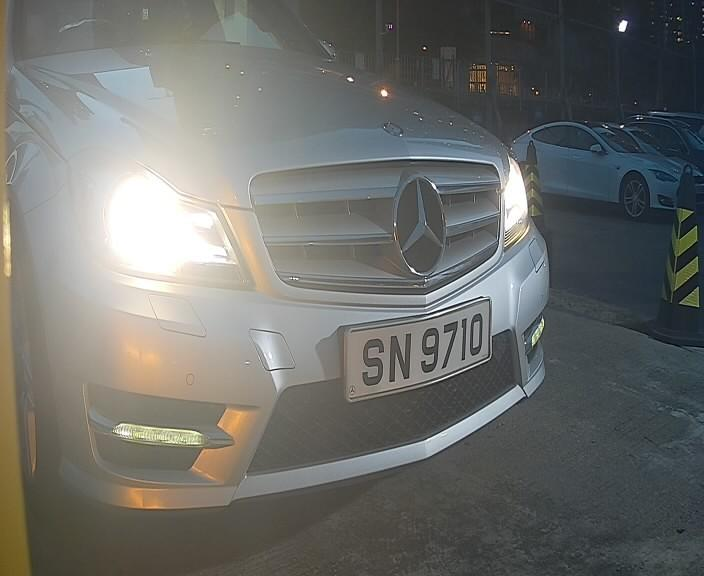License Plate: (337, 296, 494, 407)
